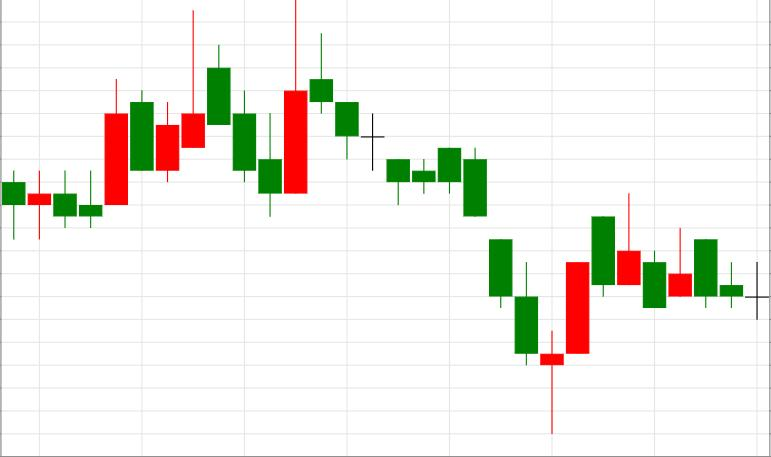morning_star_rise: (387, 147, 589, 433)
